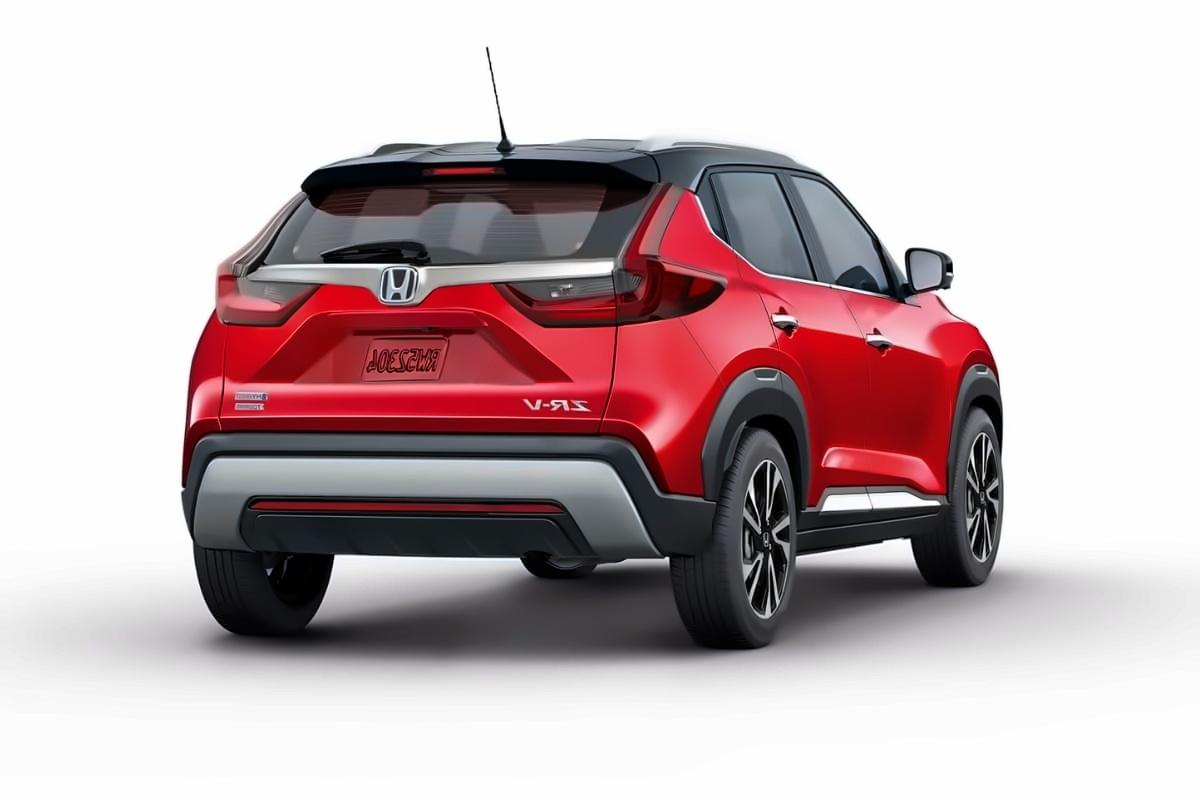Car boot: (216, 148, 661, 447)
Driver-s door - -F-R-: (791, 153, 951, 526)
Fender - -F-R-: (925, 295, 999, 504)
Fender - -R-R-: (677, 242, 786, 430)
Passenger-s door - -R-R-: (729, 154, 868, 527)
Rear bumper: (174, 319, 728, 566)
Rear light - -L-: (208, 186, 328, 332)
Rear light - -R-: (486, 180, 733, 332)
Side bumper - -R-: (790, 481, 957, 559)
Side mirror - -R-: (888, 233, 962, 315)
